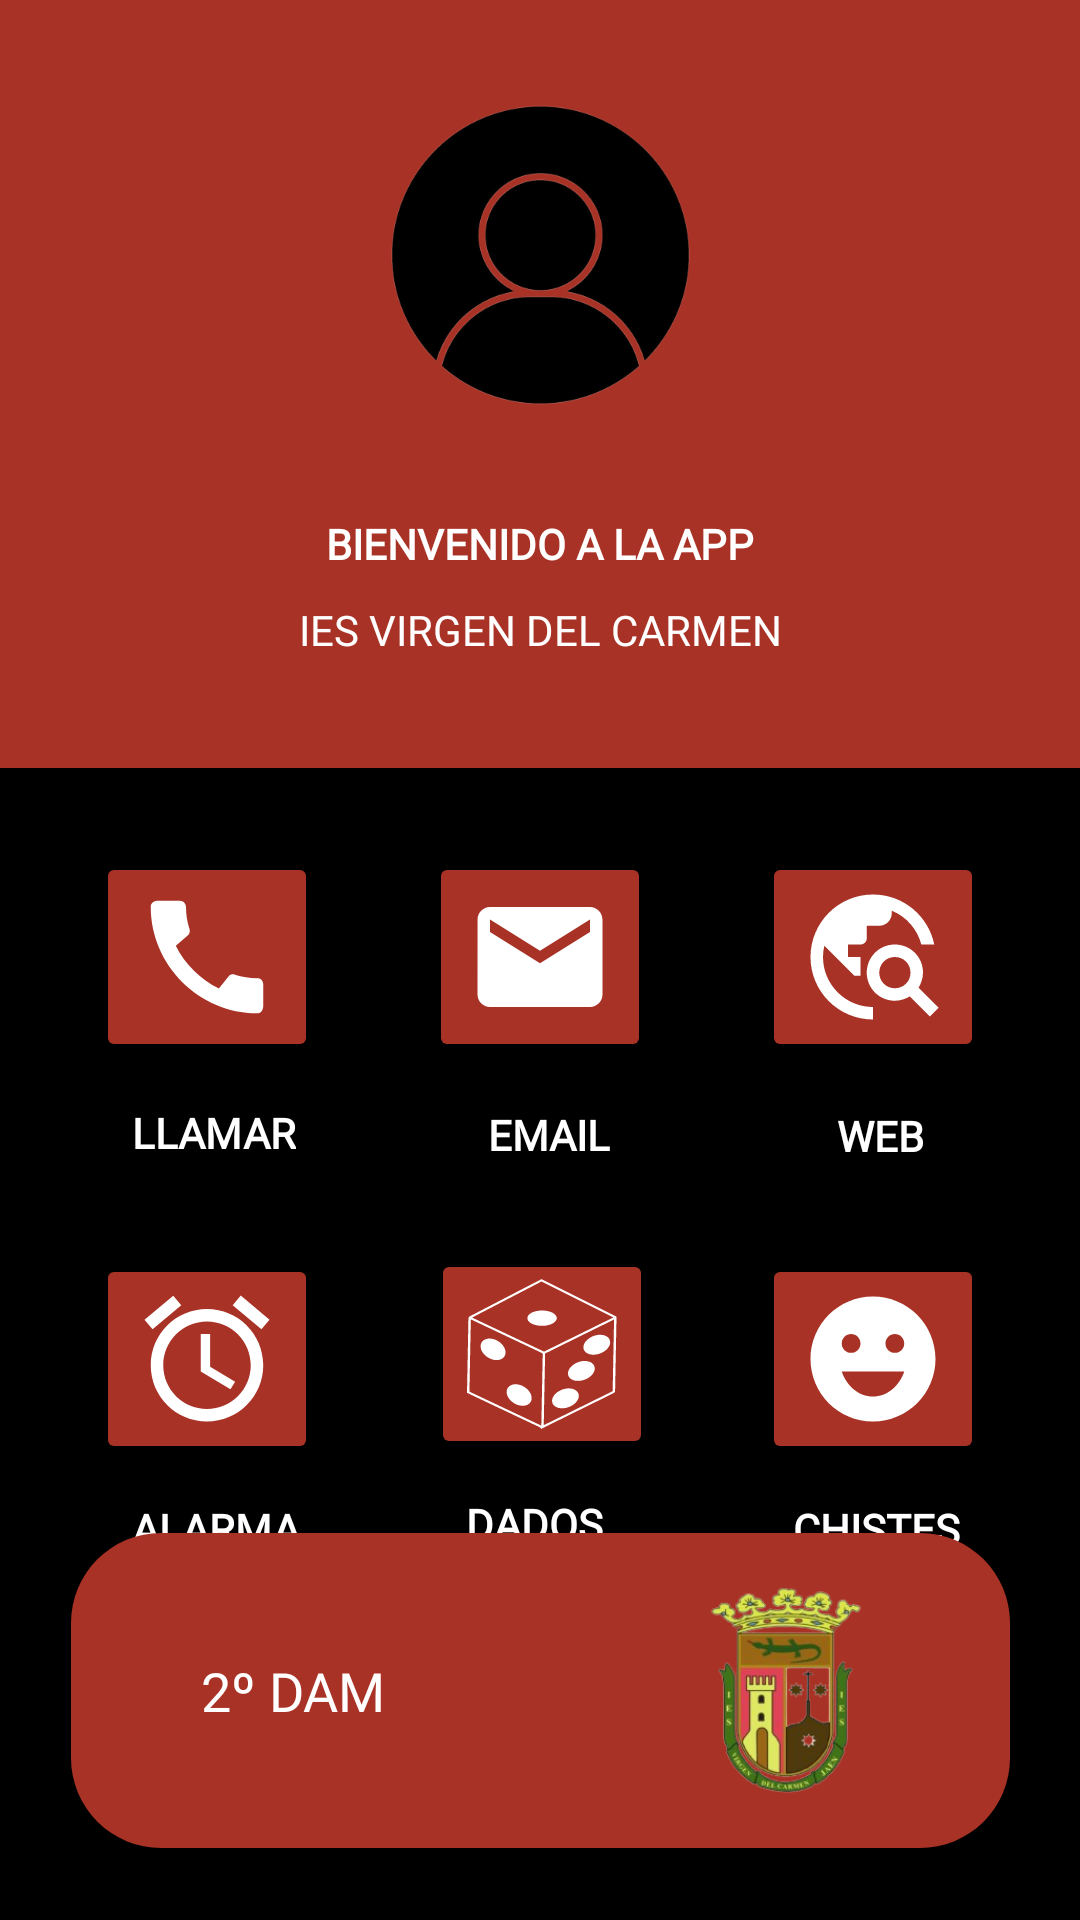

Icon click points for this 1080 x 1920 phone screenshot, format (x=x, y=y):
usuario: (x=540, y=255)
